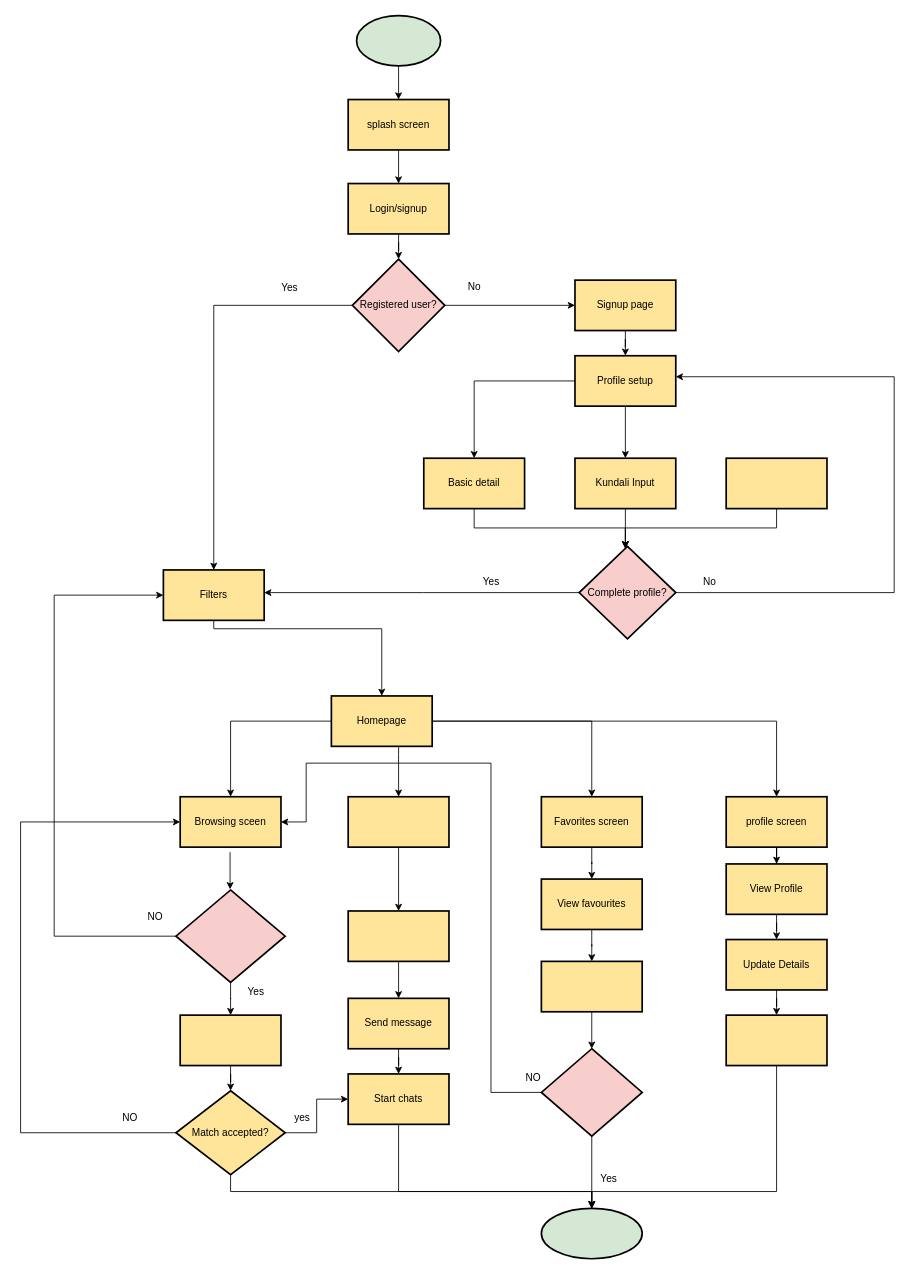
Some shapes in this 916 by 1273 pixel diagram are drawn without their labels. The shapes that lost their labels are listed below. From the top down, each one's centre as x and y in pixels, then its label:
At (398,40): "Start".
At (776,483): "Interests".
At (398,821): "Chat menu".
At (230,936): "Match Found?".
At (398,936): "View messages".
At (591,986): "Save Favourites".
At (230,1040): "Display profiles".
At (776,1040): "Adjust Prefrences".
At (591,1092): "Exit Interactions?".
At (591,1233): "Logout".
